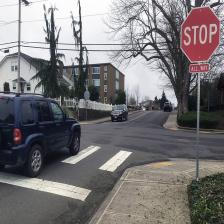Stop-sign: (179, 4, 222, 75)
